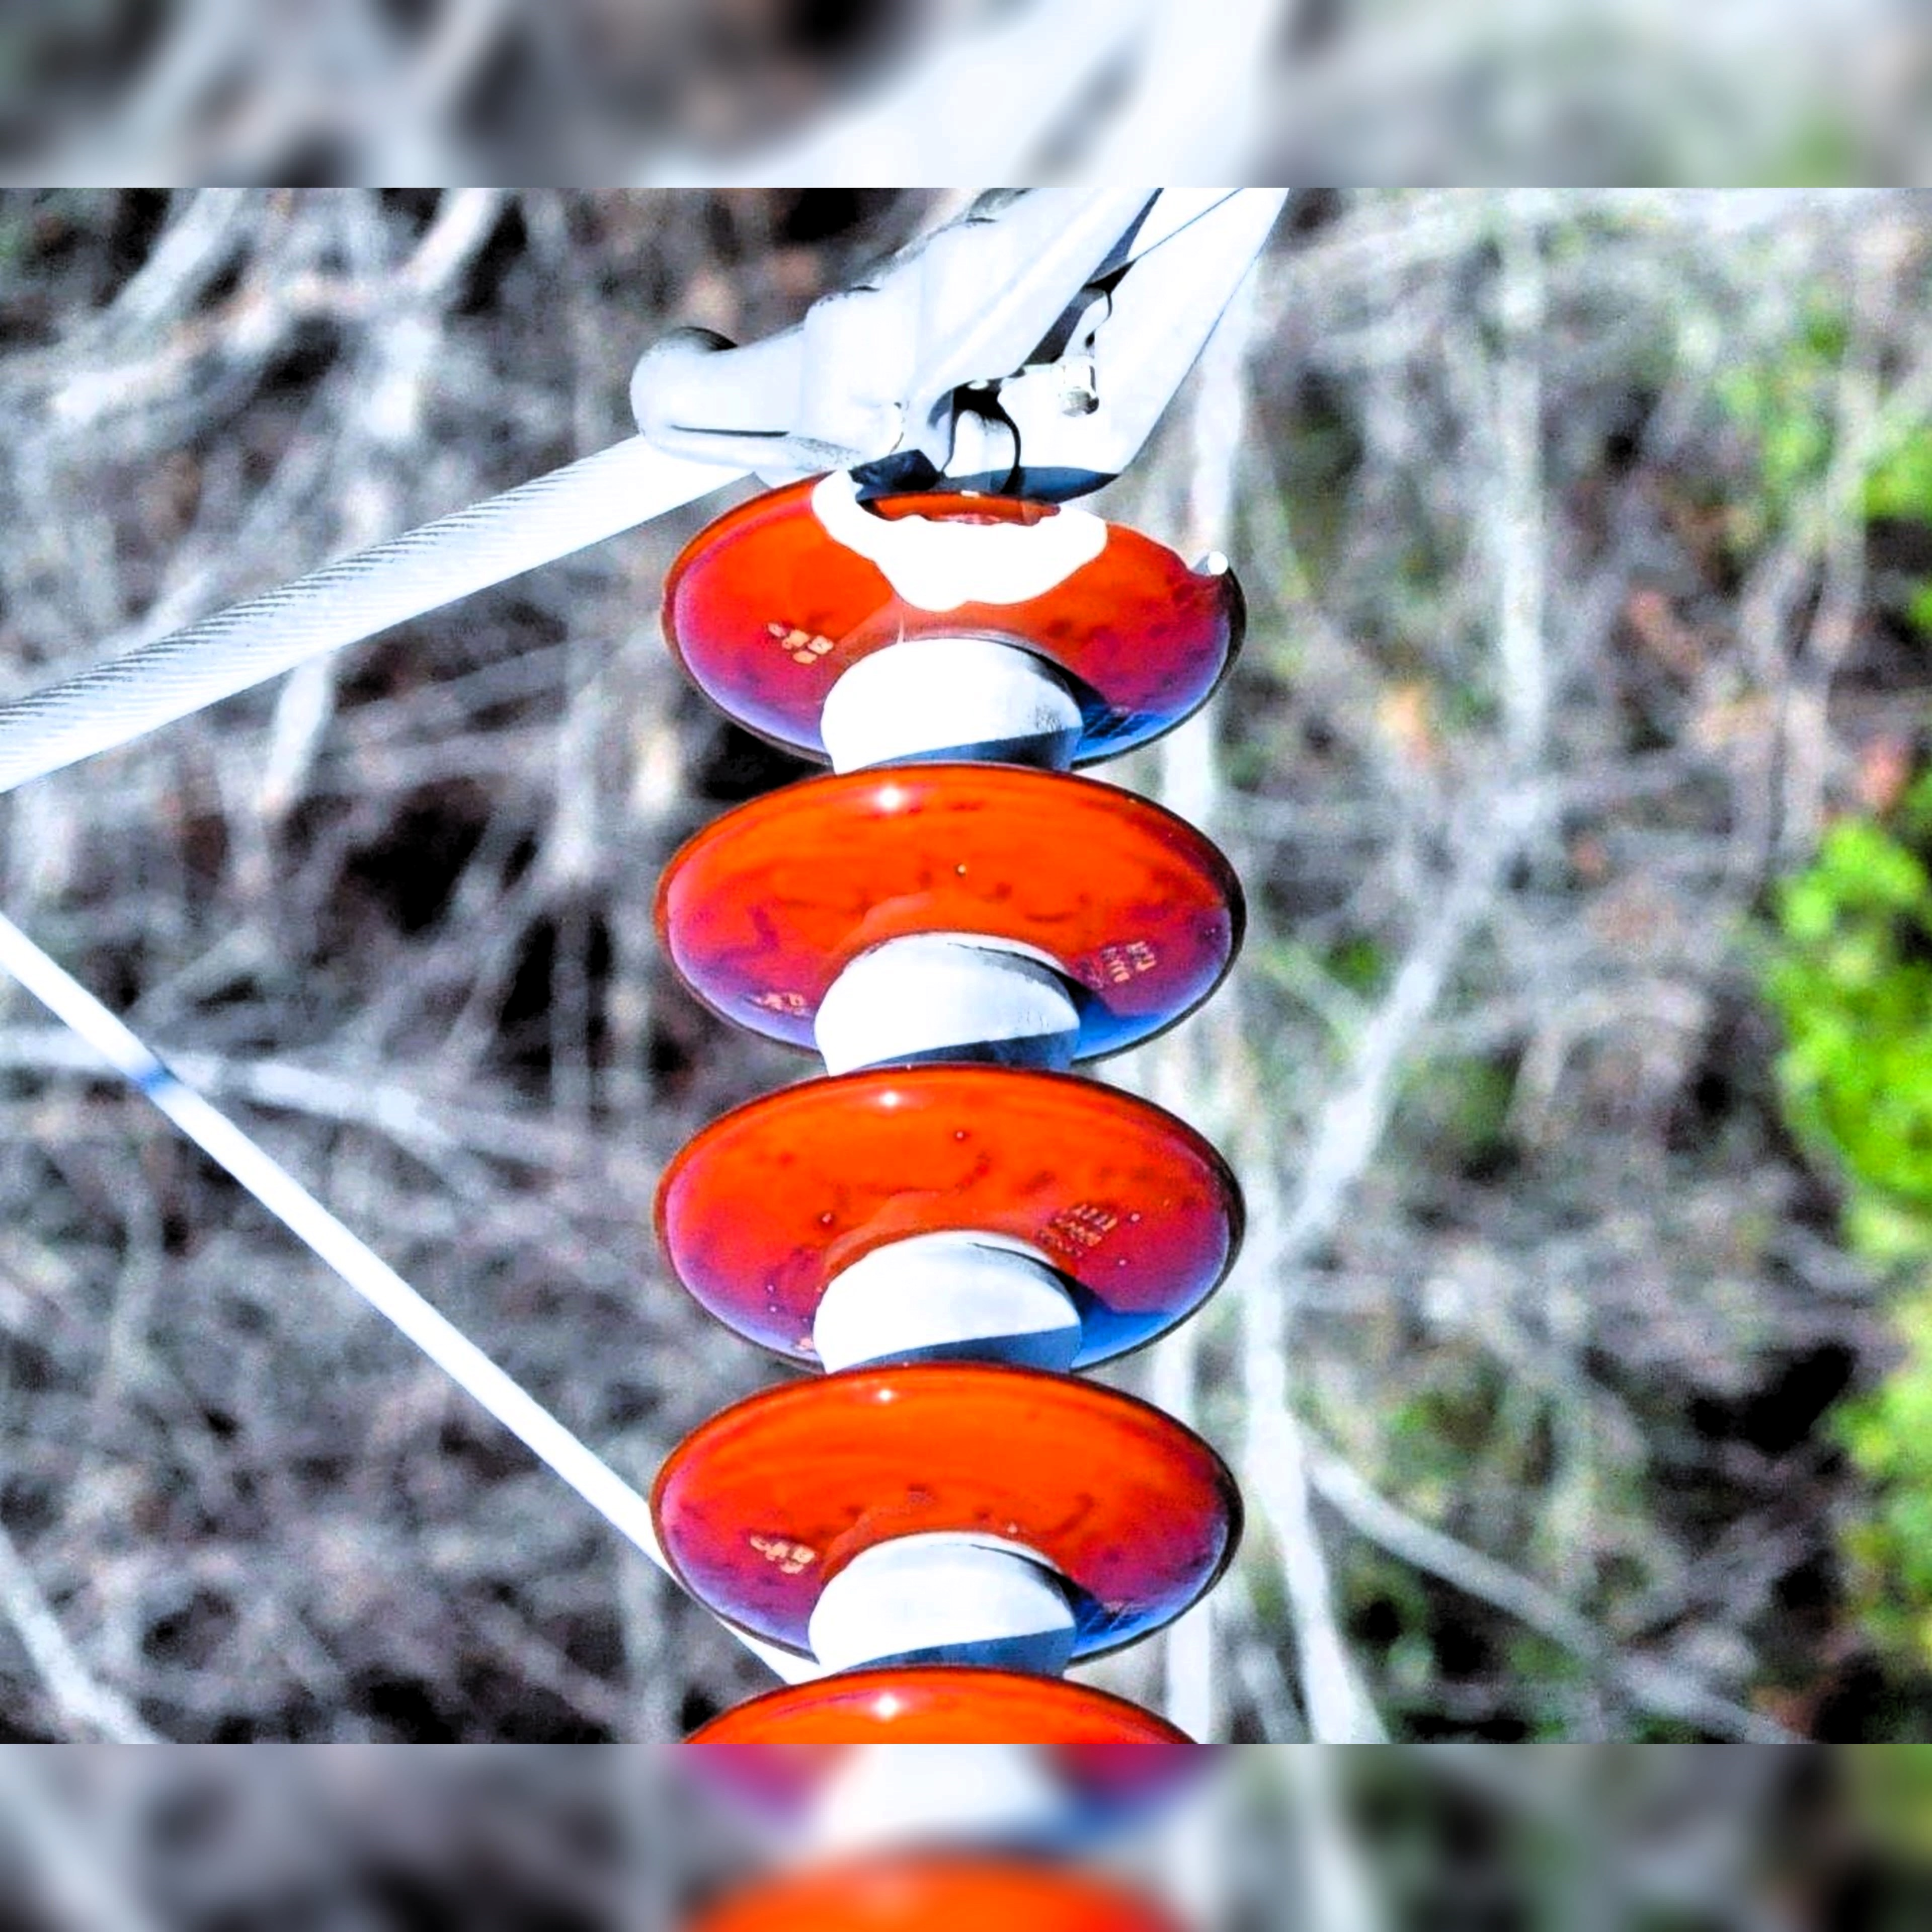insulator breakage: (649, 462, 1279, 770)
